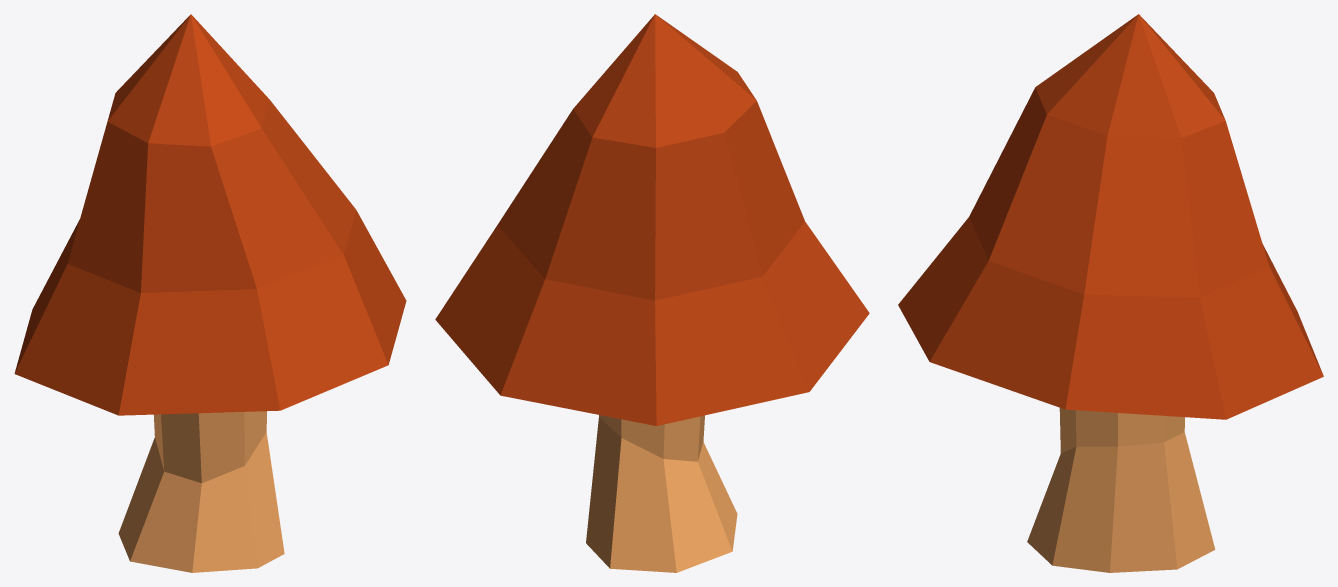
Rendered from mushroom2.obj.
The picture shows the model from 3 angles, left to right: view 1: azimuth 30°, elevation 25°; view 2: azimuth 150°, elevation 25°; view 3: azimuth 270°, elevation 25°; orthographic projection.
Parts seen in each view (by area): view 1: Mushroom2 NaturePack; view 2: Mushroom2 NaturePack; view 3: Mushroom2 NaturePack.
Boxes of the visible parts, left/top/right/bottom form: Mushroom2 NaturePack: left=14, top=14, right=406, bottom=572; Mushroom2 NaturePack: left=435, top=14, right=869, bottom=572; Mushroom2 NaturePack: left=898, top=14, right=1323, bottom=572.
Bounding box in the file's own units: 4.67 × 6.83 × 4.95.
